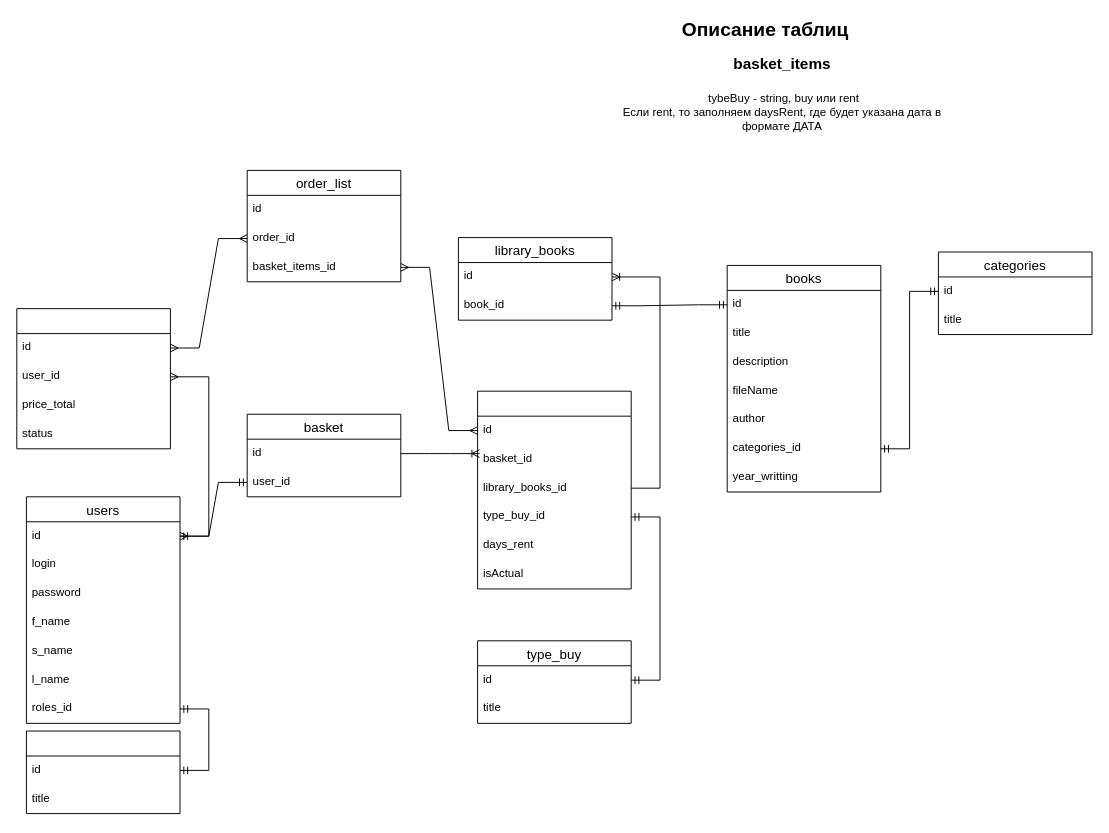
The diagram is 1109 pixels wide and 833 high, and some of its shapes have lost their labels. Here are the shapes that lost their labels. From the top down, the box of each, then its label:
(16, 308, 170, 449): orders
(477, 390, 631, 589): basket_items
(25, 730, 180, 814): roles
